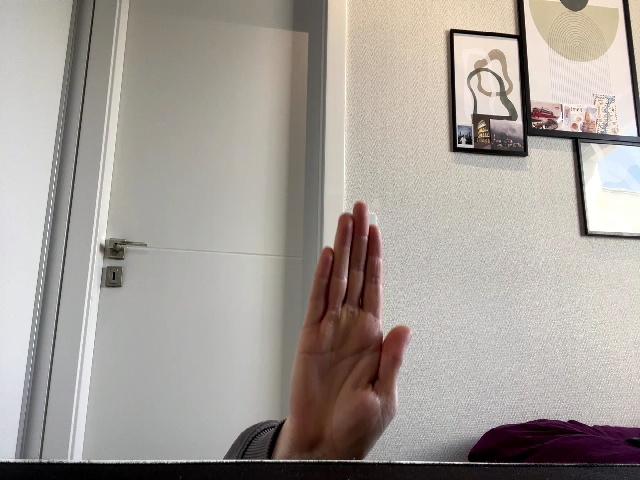B: (289, 202, 411, 459)
